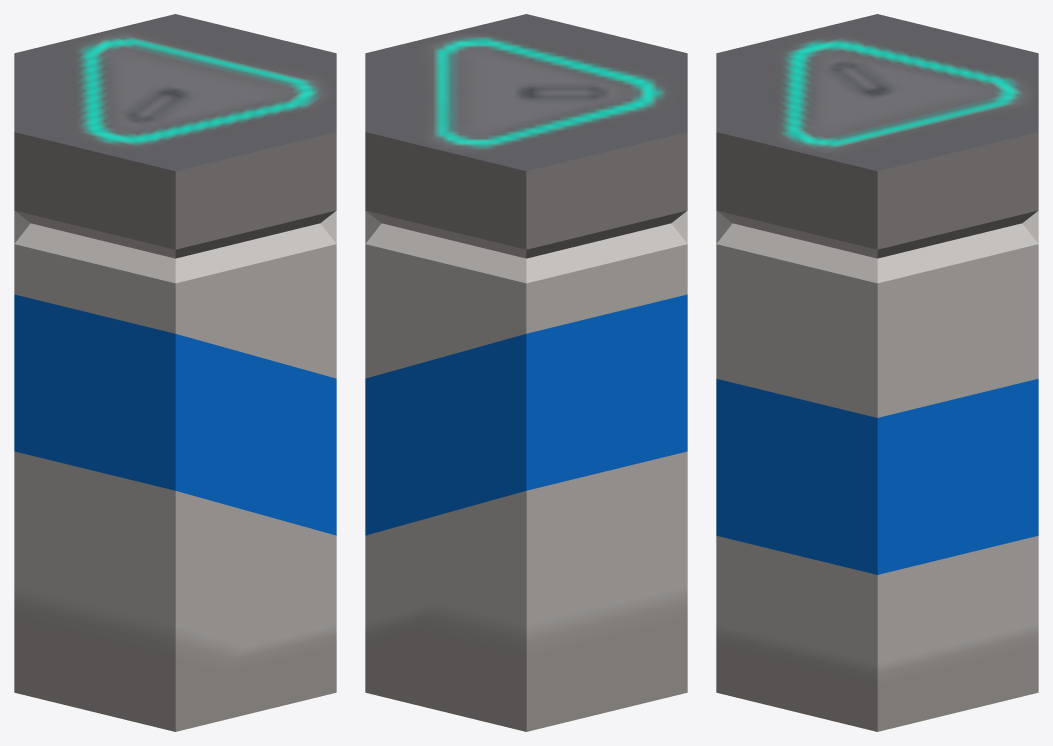
Rendered from SM_Prop_Pill_Bottle_02.fbx.
3 renders of one model, left to right at view 1: azimuth 30°, elevation 25°; view 2: azimuth 150°, elevation 25°; view 3: azimuth 270°, elevation 25°, orthographic.
Visible parts, largest first — view 1: SM_Prop_Pill_Bottle_02; view 2: SM_Prop_Pill_Bottle_02; view 3: SM_Prop_Pill_Bottle_02.
Boxes of the visible parts, x1,y1,x2,y2 form: SM_Prop_Pill_Bottle_02: (14, 14, 336, 731); SM_Prop_Pill_Bottle_02: (365, 14, 687, 731); SM_Prop_Pill_Bottle_02: (716, 14, 1038, 731).
Size of the model in its own units: 7.22 by 12.01 by 6.26.
